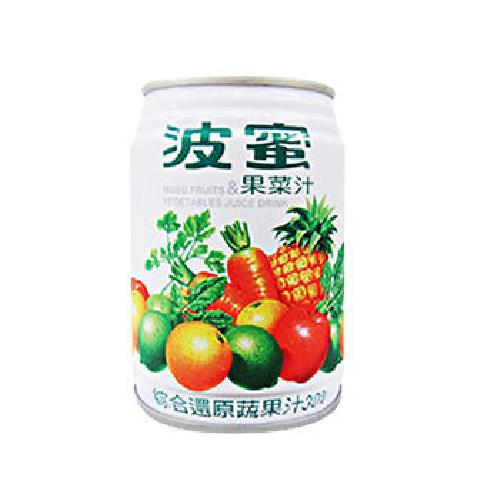vegetables juice: (117, 81, 343, 429)
